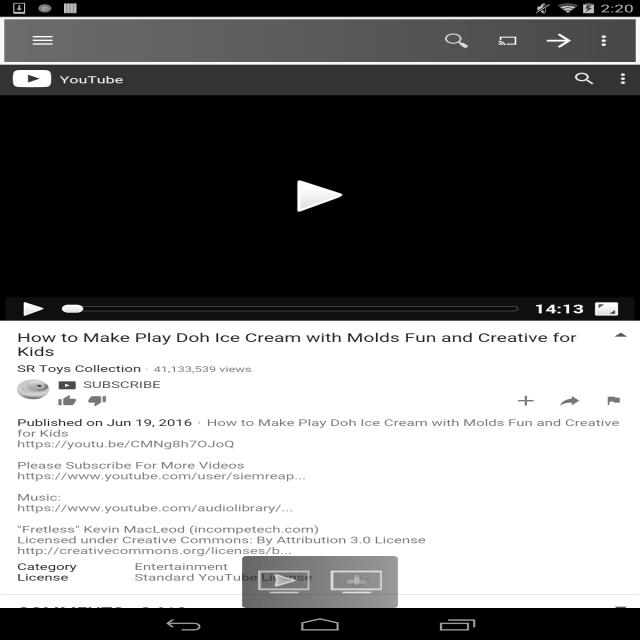Button: (17, 331, 627, 360), (17, 423, 627, 437), (0, 65, 51, 95), (58, 379, 162, 392), (597, 65, 636, 95), (559, 65, 597, 95), (15, 298, 52, 322), (588, 298, 625, 322), (557, 383, 582, 402), (516, 383, 536, 402), (604, 383, 623, 402)
ImageButton: (13, 19, 72, 62), (258, 566, 309, 598), (331, 566, 382, 598)
ImageView: (585, 24, 627, 56), (319, 336, 320, 336)
SeekBar: (55, 300, 532, 316)
TextView: (431, 24, 482, 56), (482, 24, 533, 56), (534, 24, 584, 56)
